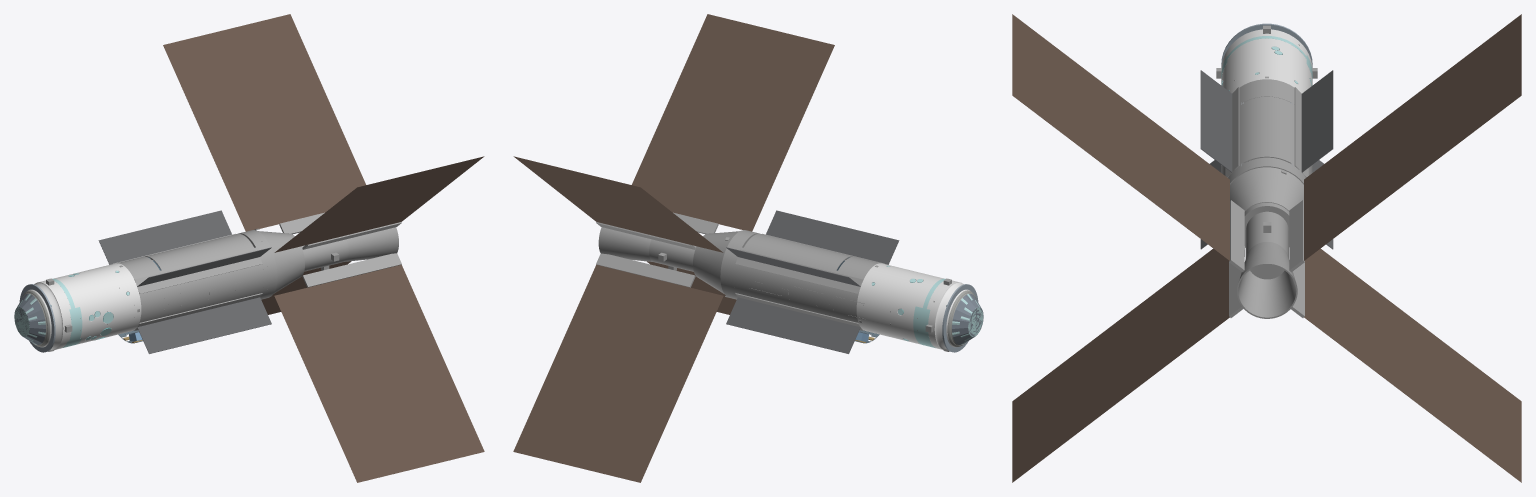
Rendered from wayfarer_bay_fullship_88ce19fc_torch_closed.glb.
3 views of the same model, side by side, from view 1: azimuth 30°, elevation 25°; view 2: azimuth 150°, elevation 25°; view 3: azimuth 270°, elevation 25° (orthographic). The views are drawn at different scales.
Visible parts, largest first — view 1: dry:armor, dry:skin_midship, dry:hotfin_220:pleat_13, dry:hotfin_40:pleat_04, dry:hotfin_220:pleat_09, dry:hotfin_40:pleat_02, dry:hotfin_220:pleat_04, dry:hotfin_220:pleat_07, dry:hotfin_220:pleat_11, dry:hotfin_40:pleat_03, dry:hotfin_40:pleat_05, dry:hotfin_40:pleat_08 (+47 smaller); view 2: dry:armor, dry:skin_midship, dry:hotfin_320:pleat_13, dry:hotfin_140:pleat_04, dry:hotfin_320:pleat_09, dry:hotfin_140:pleat_02, dry:hotfin_320:pleat_04, dry:hotfin_320:pleat_07, dry:hotfin_320:pleat_11, dry:hotfin_140:pleat_03, dry:hotfin_140:pleat_05, dry:hotfin_140:pleat_08 (+47 smaller); view 3: dry:armor, dry:nozzle, dry:thrust_cone, dry:reactor, dry:door_port, dry:door_starboard, dry:hotfin_220:pleat_03, dry:hotfin_320:pleat_03, dry:hotfin_40:pleat_05, dry:hotfin_40:pleat_07, dry:hotfin_140:pleat_05, dry:hotfin_140:pleat_07 (+63 smaller).
Part boxes in pixels (box(x1,y1,x2,y2)): dry:armor: box(23, 263, 141, 350); dry:skin_midship: box(160, 247, 263, 316); dry:hotfin_220:pleat_13: box(351, 438, 484, 482); dry:hotfin_40:pleat_04: box(216, 134, 349, 178); dry:hotfin_220:pleat_09: box(327, 385, 460, 429); dry:hotfin_40:pleat_02: box(228, 161, 361, 205); dry:hotfin_220:pleat_04: box(298, 318, 431, 362); dry:hotfin_220:pleat_07: box(316, 358, 448, 402); dry:hotfin_220:pleat_11: box(339, 412, 472, 455); dry:hotfin_40:pleat_03: box(222, 147, 355, 191); dry:hotfin_40:pleat_05: box(210, 121, 343, 165); dry:hotfin_40:pleat_08: box(193, 81, 325, 125); dry:armor: box(856, 263, 974, 350); dry:skin_midship: box(734, 247, 837, 316); dry:hotfin_320:pleat_13: box(513, 438, 646, 482); dry:hotfin_140:pleat_04: box(648, 134, 781, 178); dry:hotfin_320:pleat_09: box(537, 385, 670, 429); dry:hotfin_140:pleat_02: box(636, 161, 769, 205); dry:hotfin_320:pleat_04: box(566, 318, 699, 362); dry:hotfin_320:pleat_07: box(549, 358, 681, 402); dry:hotfin_320:pleat_11: box(525, 412, 658, 455); dry:hotfin_140:pleat_03: box(642, 147, 775, 191); dry:hotfin_140:pleat_05: box(654, 121, 787, 165); dry:hotfin_140:pleat_08: box(672, 81, 804, 125); dry:armor: box(1221, 29, 1312, 93); dry:nozzle: box(1237, 242, 1297, 318); dry:thrust_cone: box(1230, 167, 1303, 247); dry:reactor: box(1245, 211, 1288, 279); dry:door_port: box(1242, 97, 1266, 163); dry:door_starboard: box(1267, 97, 1291, 163); dry:hotfin_220:pleat_03: box(1167, 271, 1183, 364); dry:hotfin_320:pleat_03: box(1350, 271, 1366, 364); dry:hotfin_40:pleat_05: box(1381, 109, 1397, 201); dry:hotfin_40:pleat_07: box(1412, 85, 1428, 177); dry:hotfin_140:pleat_05: box(1136, 109, 1152, 201); dry:hotfin_140:pleat_07: box(1105, 85, 1121, 177).
Bounding box in the file's own units: 54.5 × 42.11 × 50.18.
